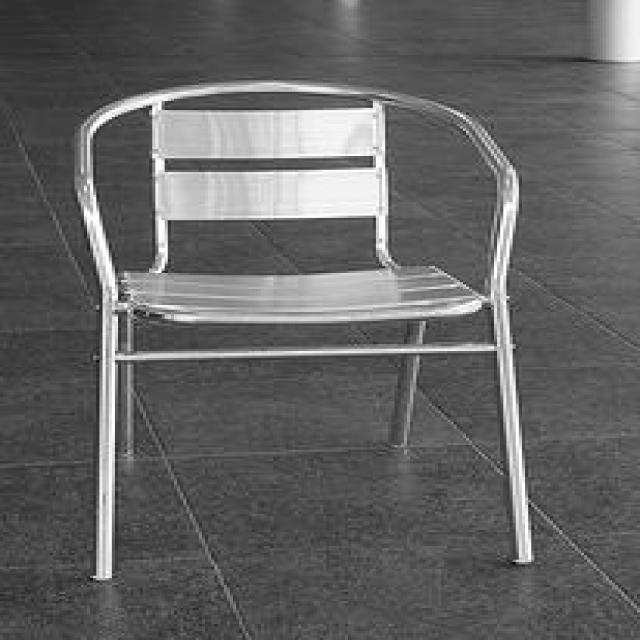chair: (61, 81, 541, 585)
